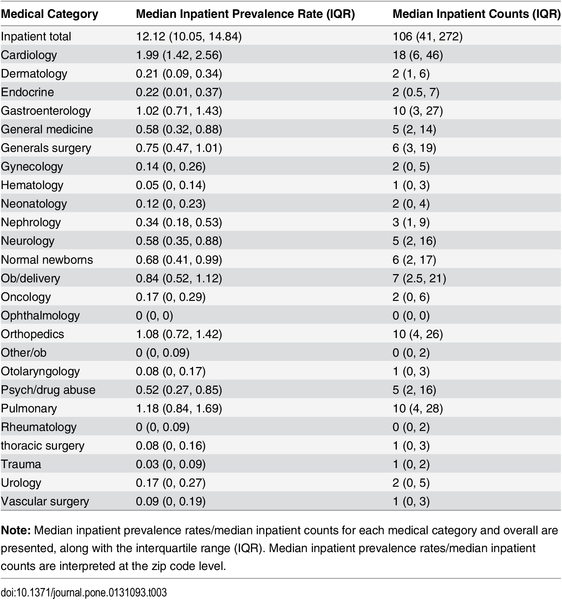fracking table: (1, 2, 562, 515)
